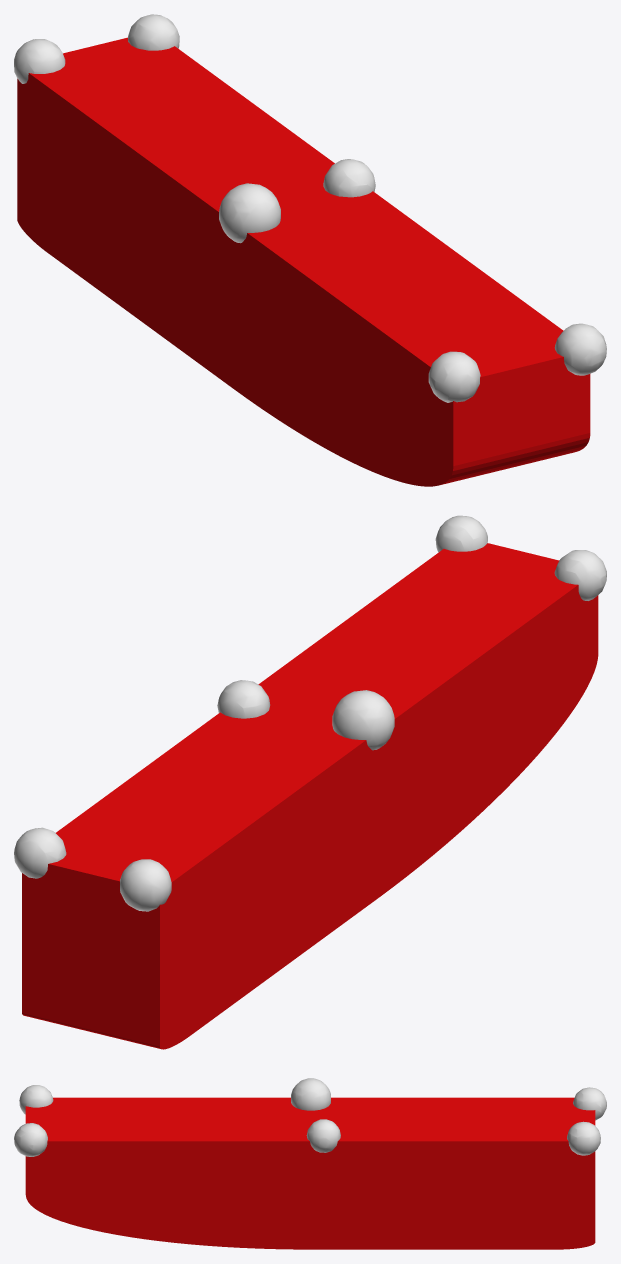
Rendered from Train.fbx.
The picture shows the model from 3 angles, top to bottom: view 1: azimuth 30°, elevation 25°; view 2: azimuth 150°, elevation 25°; view 3: azimuth 270°, elevation 25°; orthographic projection. The views are drawn at different scales.
Visible parts, largest first — view 1: Cube, Mball; view 2: Cube, Mball; view 3: Cube, Mball.
Part boxes in pixels (x1,y1,x2,y2): Cube: (17,37,590,486); Mball: (14,14,606,402); Cube: (22,543,598,1049); Mball: (14,515,606,911); Cube: (25,1097,595,1249); Mball: (14,1078,606,1156).
Size of the model in its own units: 211 by 240 by 991.
